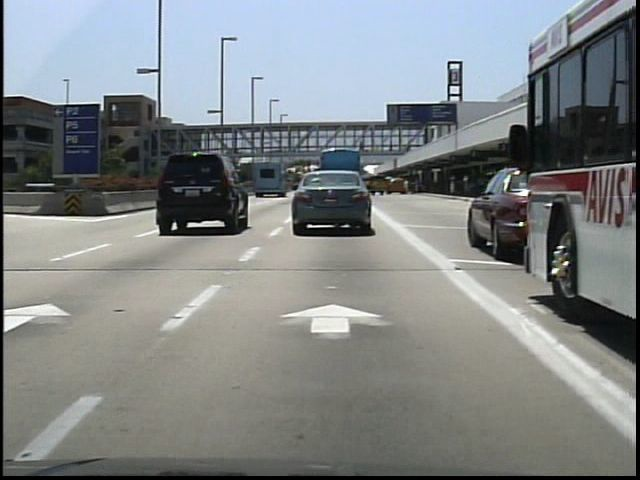person: (399, 176, 413, 199), (385, 136, 398, 158), (354, 136, 367, 157)
